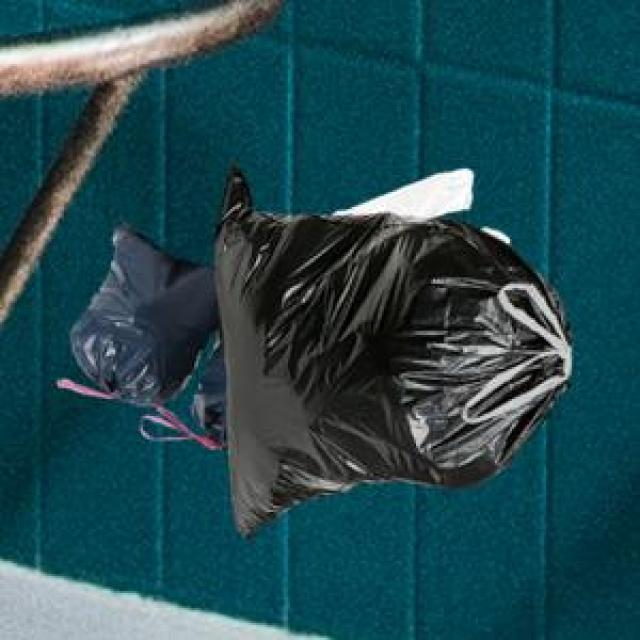miscellaneous trash: (211, 158, 568, 538), (53, 218, 223, 448)
